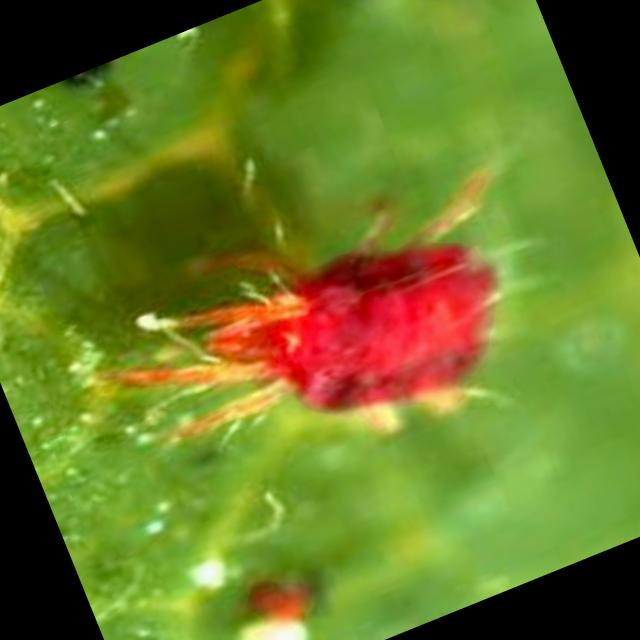spider mite: (57, 61, 640, 595)
